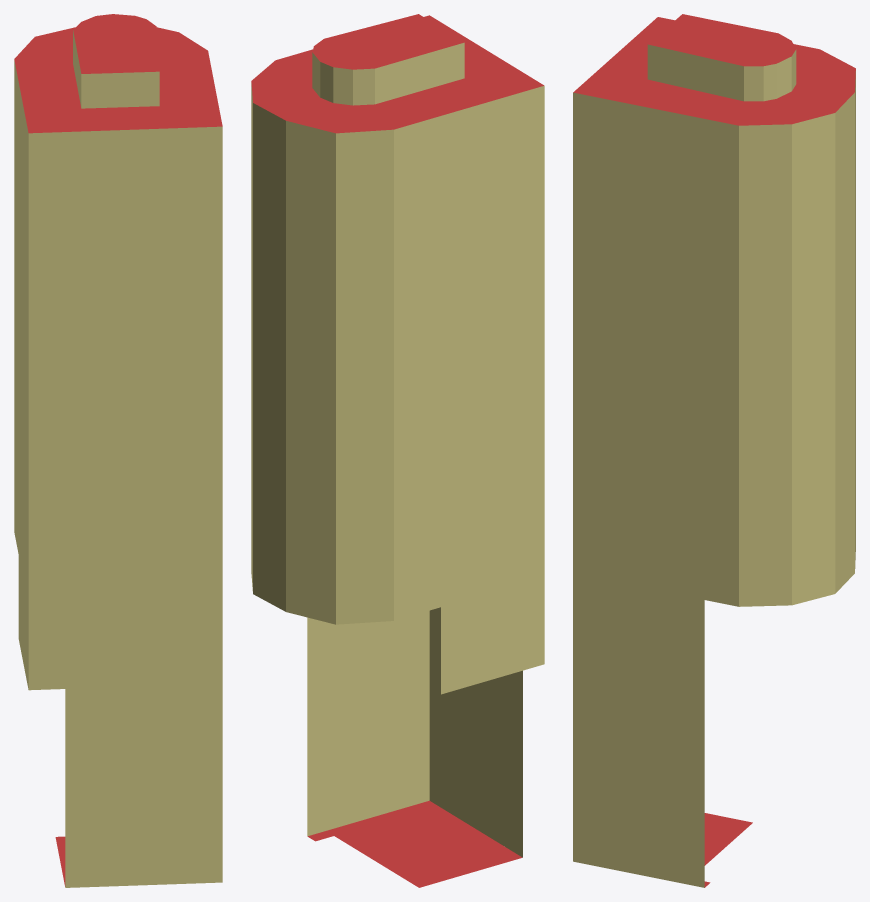
The picture shows the model from 3 angles, left to right: view 1: azimuth 30°, elevation 25°; view 2: azimuth 150°, elevation 25°; view 3: azimuth 270°, elevation 25°; orthographic projection. The views are drawn at different scales.
Parts seen in each view (by area): view 1: group_6, group_3, group_4, group_5; view 2: group_6, group_3, group_7, group_5, group_4; view 3: group_6, group_3, group_5, group_4, group_7.
Boxes of the visible parts, <box> form: group_6: <box>14,60,222,887</box>; group_3: <box>14,27,222,133</box>; group_4: <box>73,14,159,73</box>; group_5: <box>73,30,159,108</box>; group_6: <box>251,83,544,857</box>; group_3: <box>251,15,543,133</box>; group_7: <box>307,800,522,887</box>; group_5: <box>312,42,464,105</box>; group_4: <box>312,14,464,69</box>; group_6: <box>573,71,855,887</box>; group_3: <box>573,17,855,125</box>; group_5: <box>647,44,796,101</box>; group_4: <box>648,14,795,66</box>; group_7: <box>704,813,752,887</box>.
Size of the model in its own units: 11.88 by 13.04 by 40.91.
